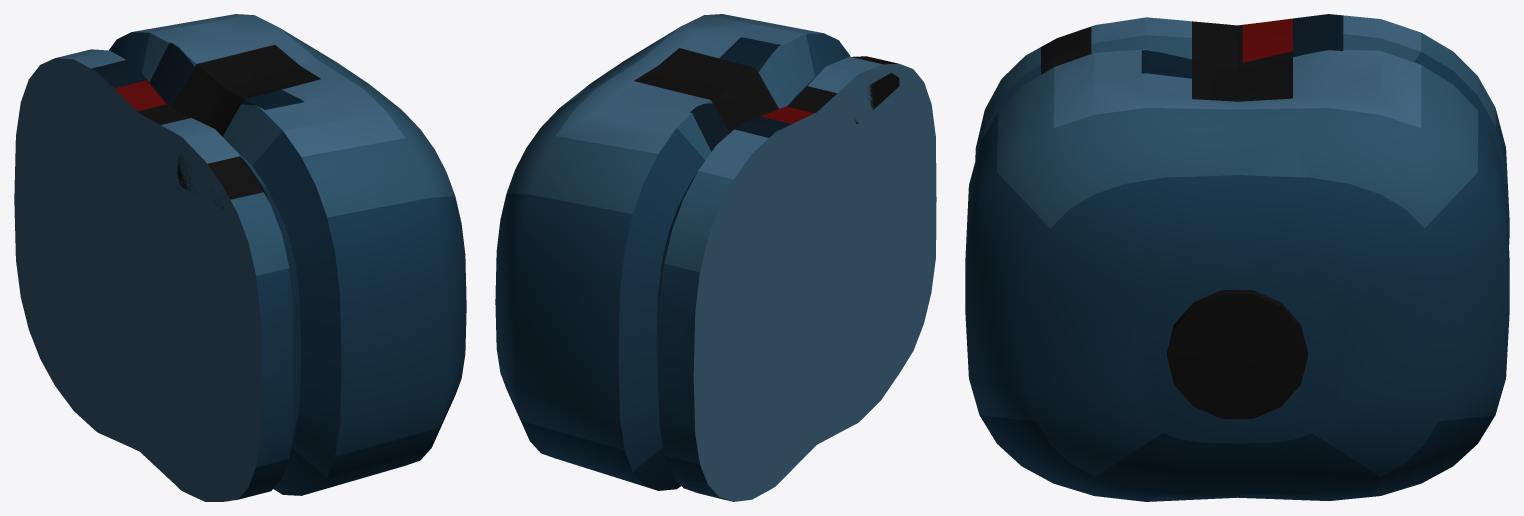
The model's file is deli_cannon_dmg_muzzle.glb.
3 views of the same model, side by side, from view 1: azimuth 30°, elevation 25°; view 2: azimuth 150°, elevation 25°; view 3: azimuth 270°, elevation 25° (orthographic). The views are drawn at different scales.
Visible parts, largest first — view 1: muzzle; view 2: muzzle, port_hole; view 3: muzzle, bore.
Boxes of the visible parts, left/top/right/bottom form: muzzle: left=14, top=14, right=466, bottom=501; muzzle: left=495, top=14, right=936, bottom=501; port_hole: left=854, top=72, right=899, bottom=124; muzzle: left=965, top=14, right=1509, bottom=501; bore: left=1167, top=290, right=1307, bottom=418.
Size of the model in its own units: 6.55 by 8.86 by 10.8.
